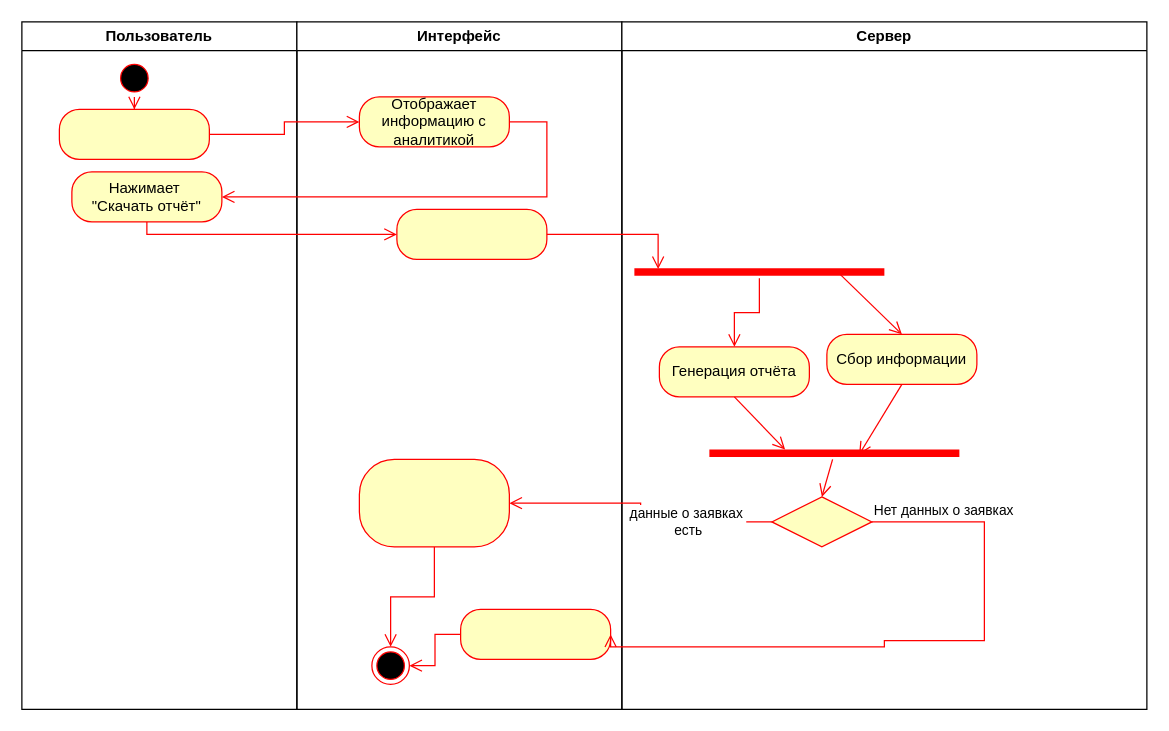
The diagram is 1169 pixels wide and 731 high, and some of its shapes have lost their labels. Here are the shapes that lost their labels. From the top down, the centre of each, then its label:
At pixel 133 133: "Открывает страницу с аналитикой".
At pixel 471 233: "Отправляет запрос на сервер".
At pixel 433 502: "Уведомление об успешности генерации и начало скачивания".
At pixel 535 633: "Уведомление об ошибке".
